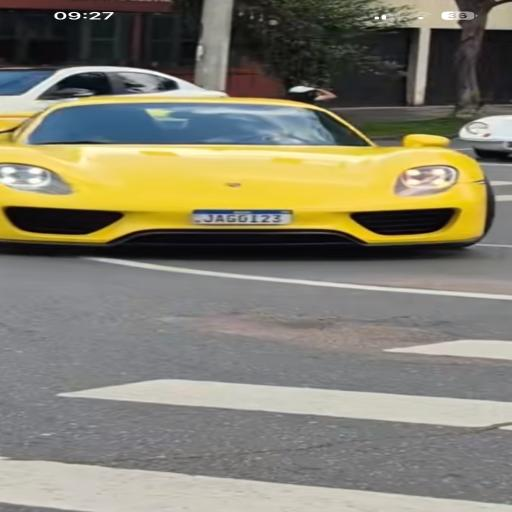detec-o-placas: (133, 168, 359, 254)
